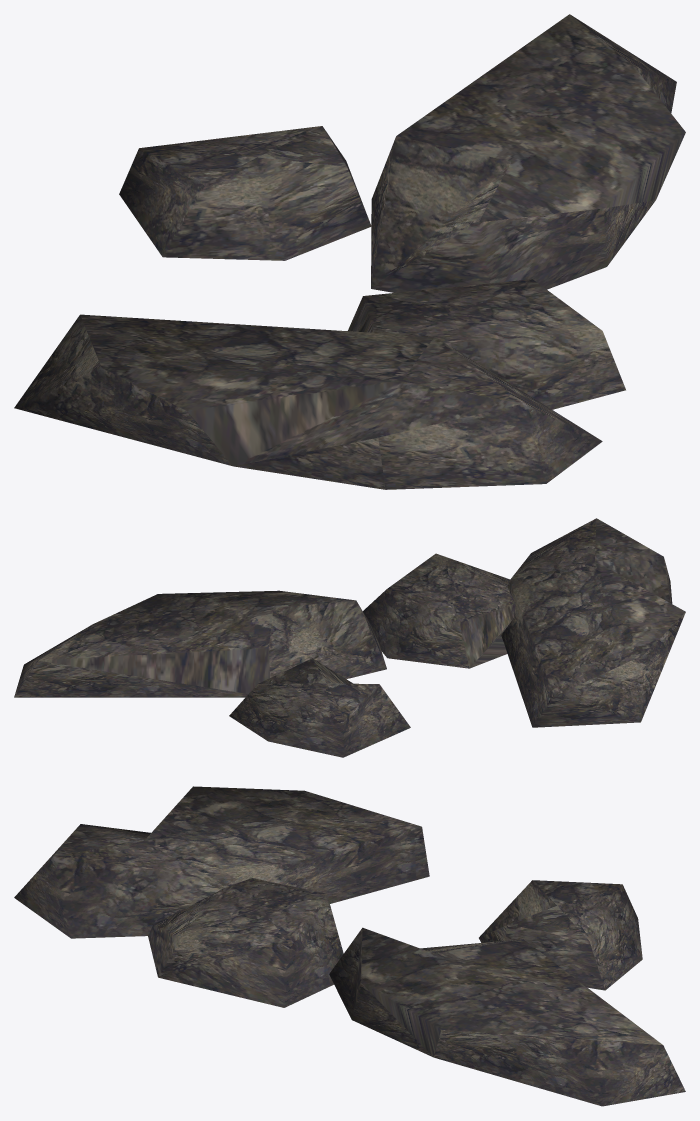
File: environment_common_suishiban_001.FBX
3 views of the same model, one above another, from view 1: azimuth 30°, elevation 25°; view 2: azimuth 150°, elevation 25°; view 3: azimuth 270°, elevation 25° (orthographic). The views are drawn at different scales.
Visible parts, largest first — view 1: environment_common_suishiban_001; view 2: environment_common_suishiban_001; view 3: environment_common_suishiban_001.
Boxes of the visible parts, bbox=[...] form: environment_common_suishiban_001: bbox=[14, 14, 685, 489]; environment_common_suishiban_001: bbox=[14, 518, 685, 757]; environment_common_suishiban_001: bbox=[14, 786, 685, 1106].
Bounding box in the file's own units: 28.03 × 3.42 × 27.39.
